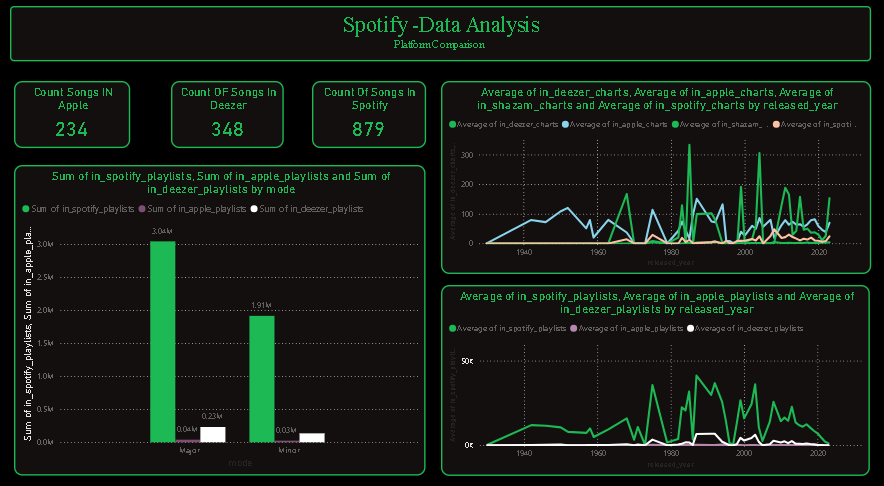

This screenshot's page, from the dashboard's own definition file:
{"tool":"powerbi","page":{"name":"Page 3","canvas":[1280,720],"ordinal":2},"visuals":[{"type":"textbox","box":[17.7,17.7,1244.6,79.5],"z":0},{"type":"card","title":"Count  Songs IN  Apple ","fields":{"Values":["Count(spotify-2023.in_apple_playlists)"]},"box":[23.5,125.3,167.6,97.1],"z":1000},{"type":"card","title":"Count OF Songs In Deezer","fields":{"Values":["Count(spotify-2023.in_deezer_playlists)"]},"box":[250.7,125.3,162.9,97.1],"z":2000},{"type":"card","title":"Count Of Songs In Spotify","fields":{"Values":["Count(spotify-2023.in_spotify_playlists)"]},"box":[454.3,125.3,164.5,97.1],"z":3000},{"type":"clusteredColumnChart","fields":{"Y":["Sum(spotify-2023.in_spotify_playlists)","Sum(spotify-2023.in_apple_playlists)","Sum(spotify-2023.in_deezer_playlists)"],"Category":["spotify-2023.mode"]},"box":[23.6,247.5,595.1,449.3],"z":4000},{"type":"lineChart","fields":{"Category":["spotify-2023.released_year"],"Y":["Avg(spotify-2023.in_spotify_playlists)","Avg(spotify-2023.in_apple_playlists)","Avg(spotify-2023.in_deezer_playlists)"]},"box":[640.8,421.4,620.4,275.7],"z":5000},{"type":"lineChart","fields":{"Category":["spotify-2023.released_year"],"Y":["Avg(spotify-2023.in_deezer_charts)","Avg(spotify-2023.in_apple_charts)","Avg(spotify-2023.in_shazam_charts)","Avg(spotify-2023.in_spotify_charts)"]},"box":[640.8,125.3,622,278.9],"z":6000}]}

Visuals, with their boxes in screenshot pixels (x1, y1, x2, y2), scaled from the page's 1280x720 canvas onto the 884x486 screenshot:
textbox: {"left": 12, "top": 12, "right": 872, "bottom": 66}
"Count  Songs IN  Apple " card: {"left": 16, "top": 85, "right": 132, "bottom": 150}
"Count OF Songs In Deezer" card: {"left": 173, "top": 85, "right": 286, "bottom": 150}
"Count Of Songs In Spotify" card: {"left": 314, "top": 85, "right": 427, "bottom": 150}
clusteredColumnChart - Sum(spotify-2023.in_spotify_playlists) x Sum(spotify-2023.in_apple_playlists): {"left": 16, "top": 167, "right": 427, "bottom": 470}
lineChart - spotify-2023.released_year x Avg(spotify-2023.in_spotify_playlists): {"left": 443, "top": 284, "right": 871, "bottom": 471}
lineChart - spotify-2023.released_year x Avg(spotify-2023.in_deezer_charts): {"left": 443, "top": 85, "right": 872, "bottom": 273}
